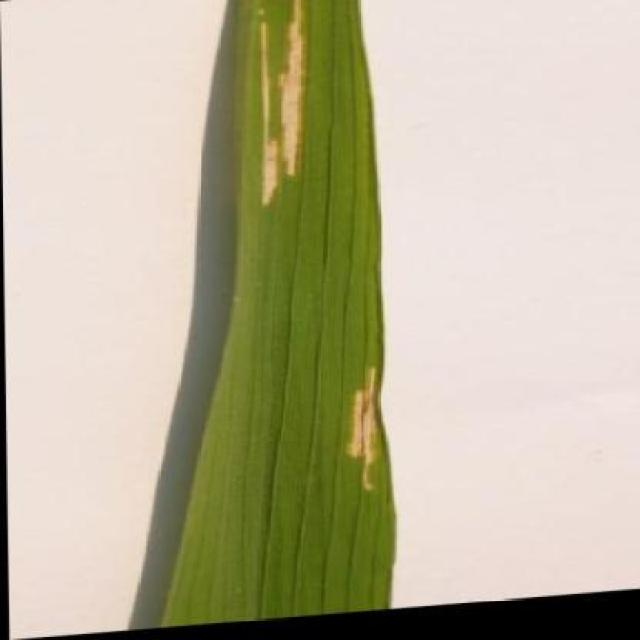Brown_Spot: (165, 0, 402, 615)
